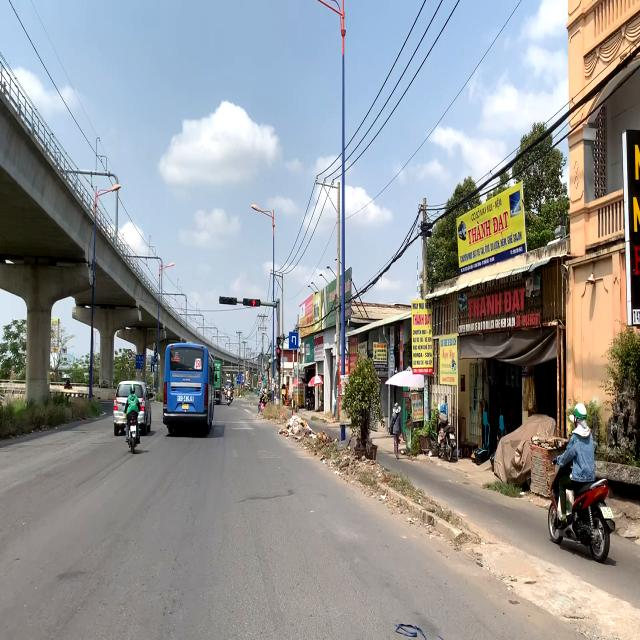R.409: (289, 332, 298, 349)
